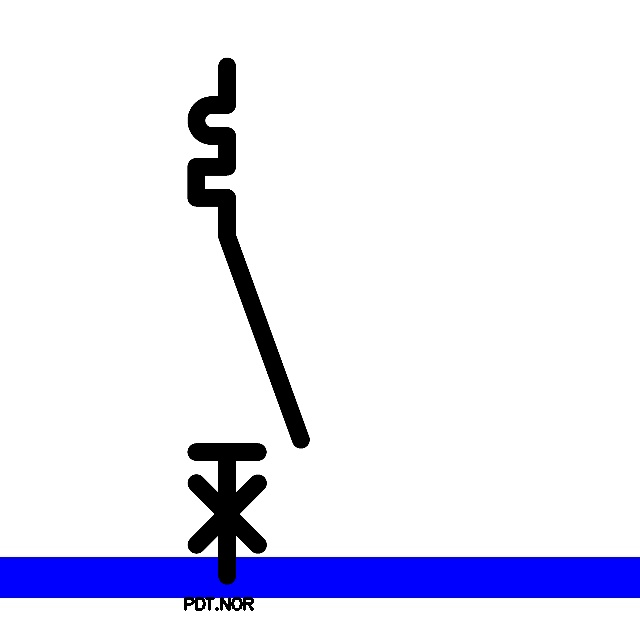interruptor_termomagnetico: (183, 53, 314, 589)
